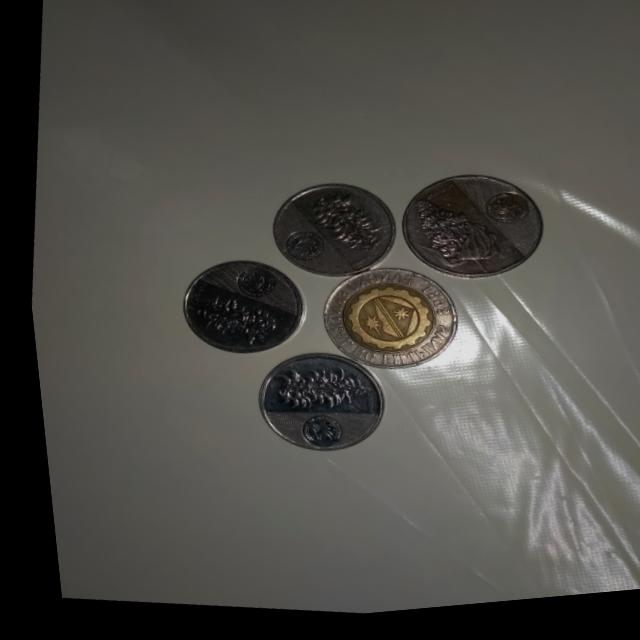10_New_Back: (384, 190, 520, 297)
10_Old_Back: (306, 261, 455, 387)
5_New_Back: (257, 360, 367, 432)
